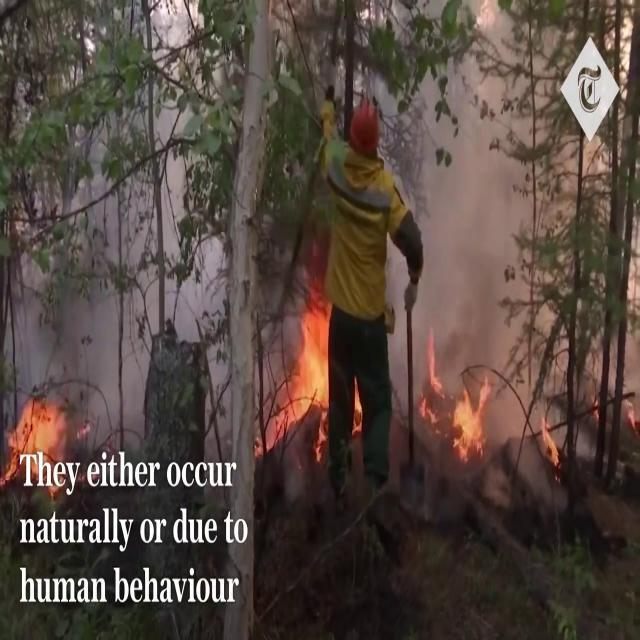Fire: (270, 276, 336, 448), (1, 396, 74, 480), (447, 366, 492, 463)
Smoke: (8, 113, 244, 418), (406, 46, 542, 417)
